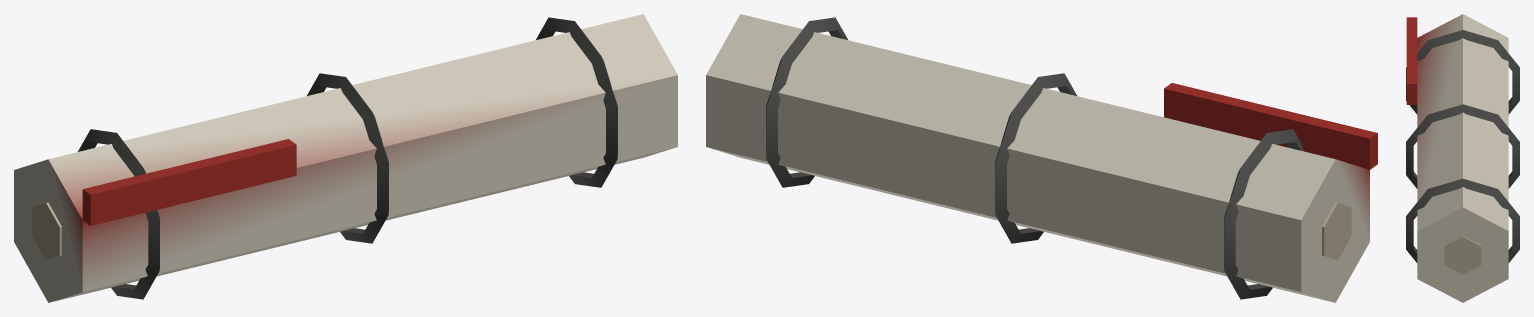
File: to_bao_cuon.glb
3 views of the same model, side by side, from view 1: azimuth 30°, elevation 25°; view 2: azimuth 150°, elevation 25°; view 3: azimuth 270°, elevation 25° (orthographic). The views are drawn at different scales.
Visible parts, largest first — view 1: to_bao__cuon; view 2: to_bao__cuon; view 3: to_bao__cuon.
Boxes of the visible parts, left/top/right/bottom form: to_bao__cuon: left=14, top=14, right=677, bottom=302; to_bao__cuon: left=706, top=14, right=1377, bottom=302; to_bao__cuon: left=1406, top=14, right=1519, bottom=302.
Bounding box in the file's own units: 0.262 × 0.068 × 0.0647.
